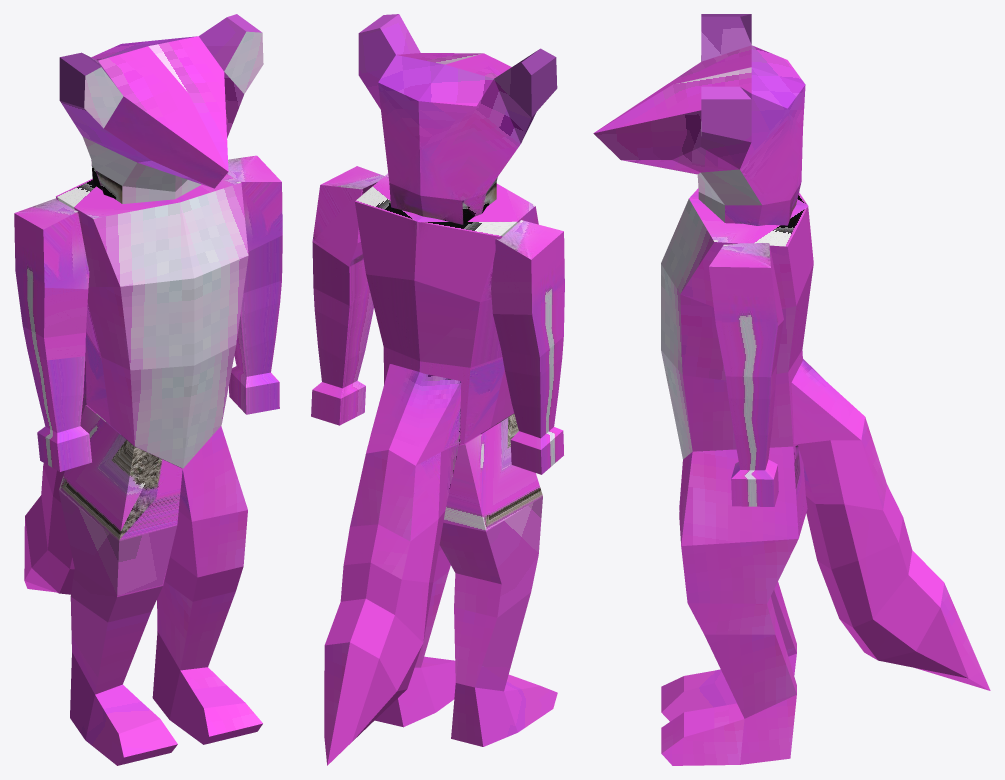
File: Sable.skuffo (2).glb
3 renders of one model, left to right at view 1: azimuth 30°, elevation 25°; view 2: azimuth 150°, elevation 25°; view 3: azimuth 270°, elevation 25°, orthographic. The views are drawn at different scales.
Visible parts, largest first — view 1: Head; view 2: Head; view 3: Head.
Boxes of the visible parts, x1,y1,x2,y2 form: Head: [14, 14, 282, 765]; Head: [311, 14, 564, 765]; Head: [593, 14, 990, 765].
Size of the model in its own units: 0.7178 by 1.97 by 1.04.
Materials: 1 (1 with a texture image).
